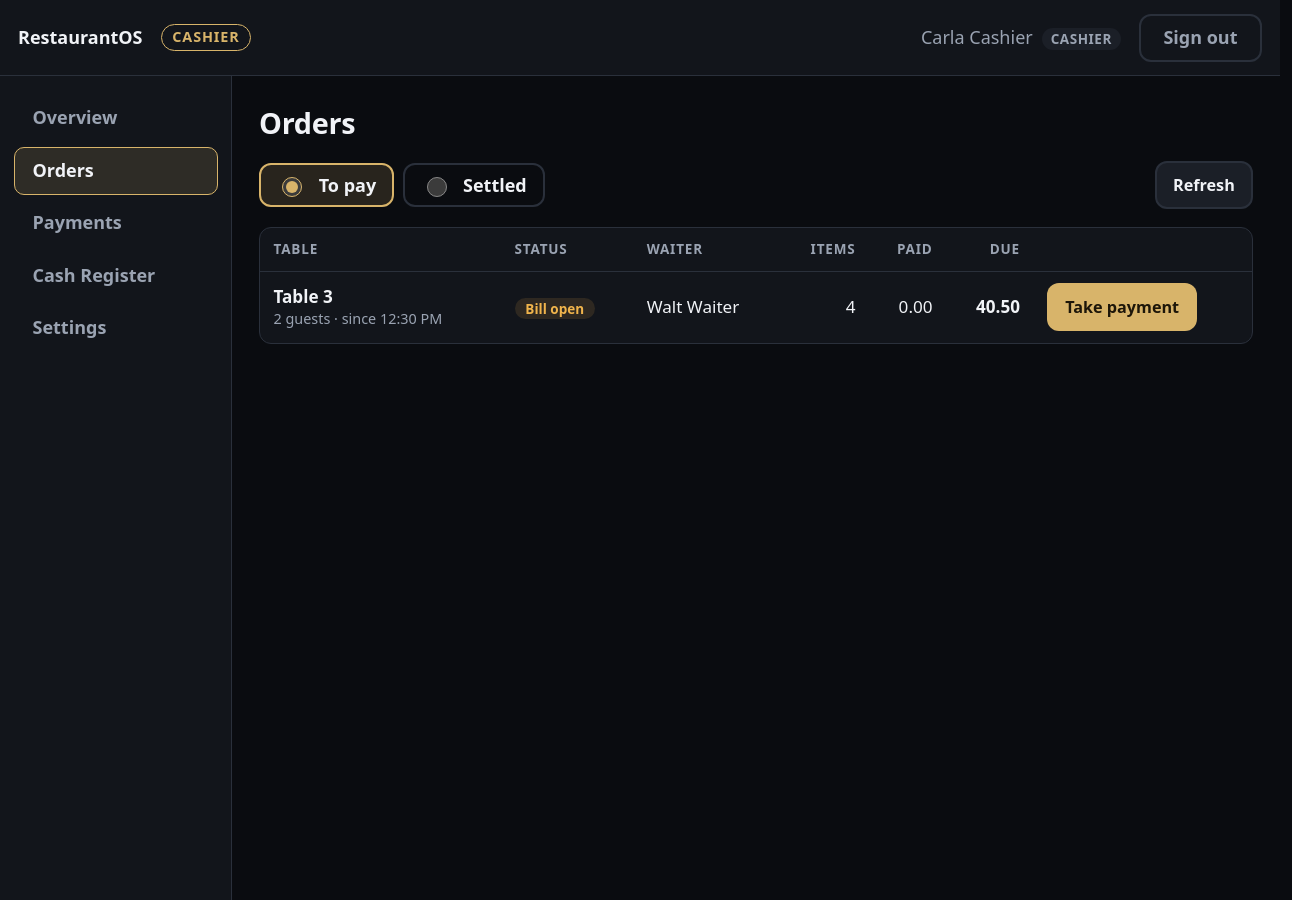
Test: bill › shows the lines, totals and the server's amount due
The width and height of the screenshot is (1292, 900).
Click the button with aria-label "Take payment: Table 3" at (1122,307), box [1047, 283, 1197, 331]
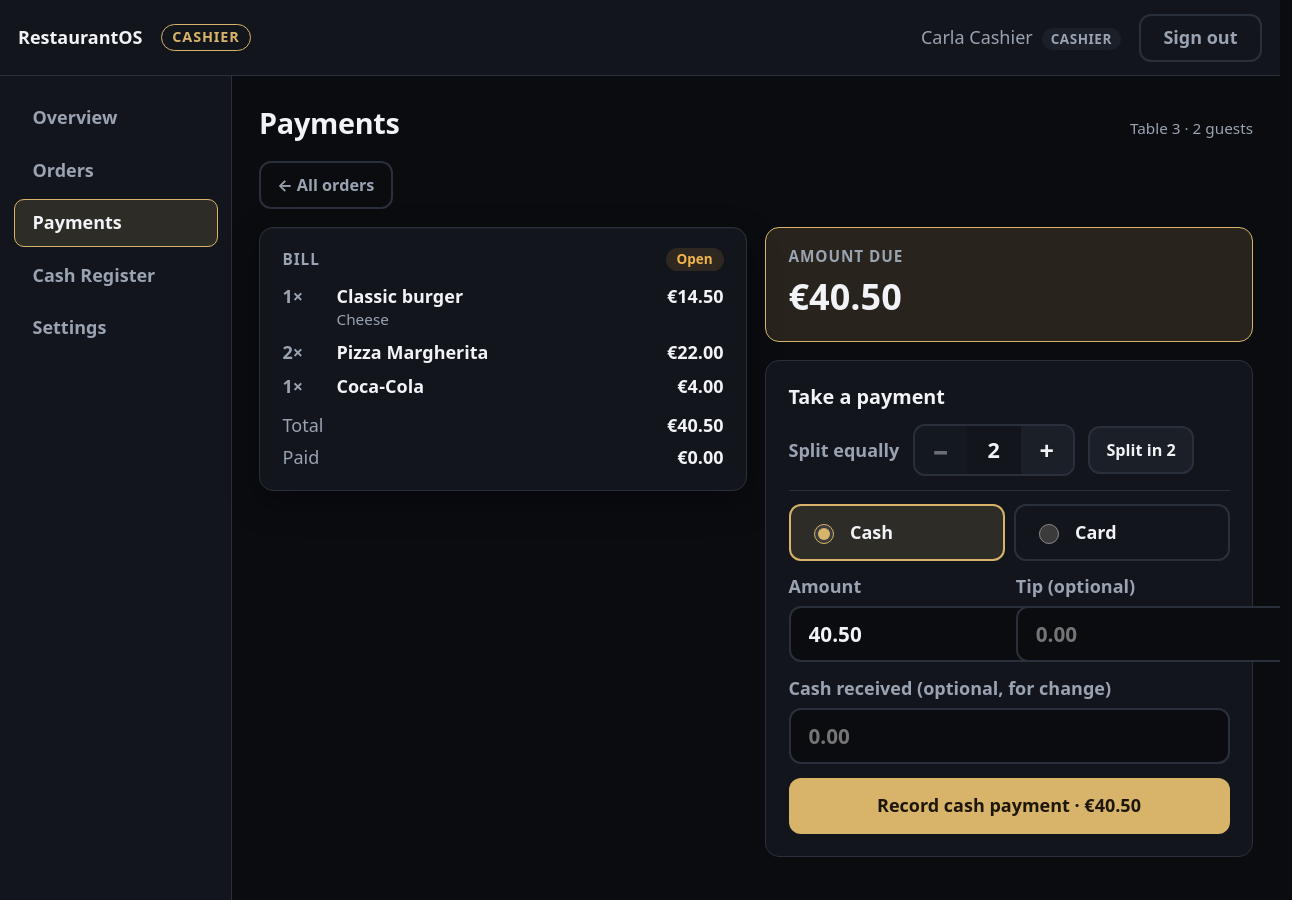
Now the text "Classic burger" is shown, box [336, 284, 463, 308]
Now the text "Cheese" is shown, box [336, 309, 389, 329]
Now the text "Pizza Margherita" is shown, box [336, 340, 488, 364]
